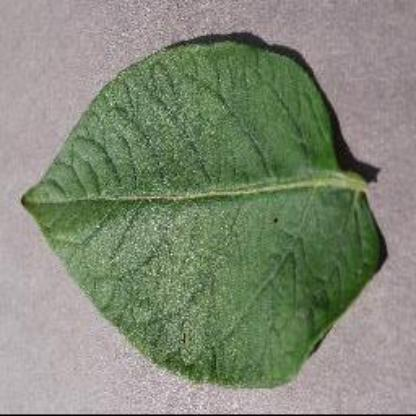Healthy-plant: (20, 37, 392, 386)
